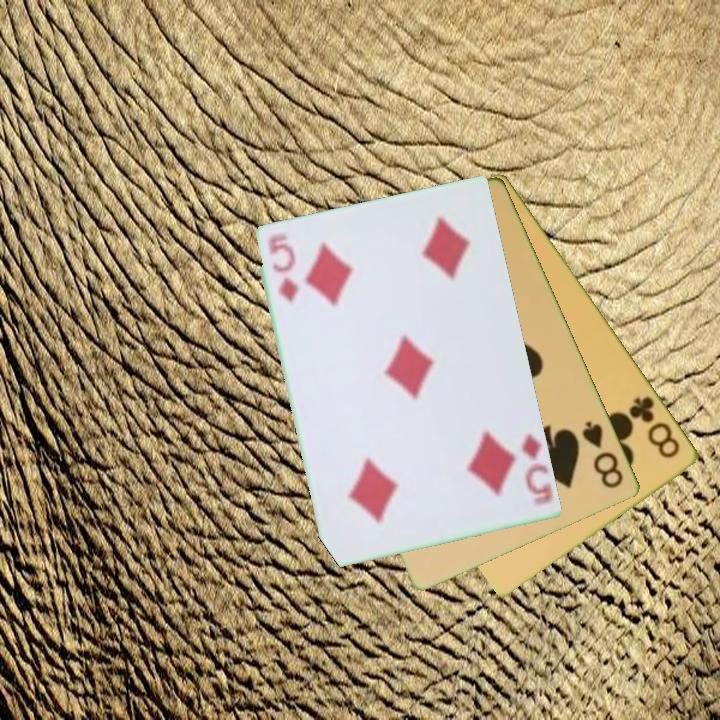5d: (518, 430, 556, 509), (264, 233, 299, 306)
8c: (625, 393, 684, 462)
8s: (579, 417, 627, 492)
